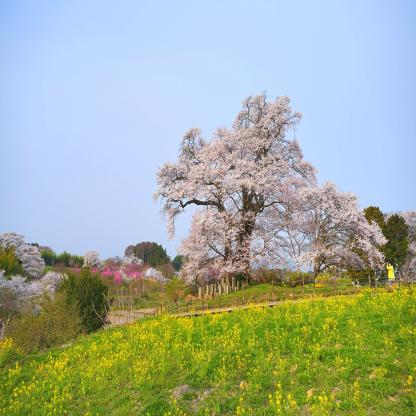EdohiganSakura: (152, 86, 389, 286)
